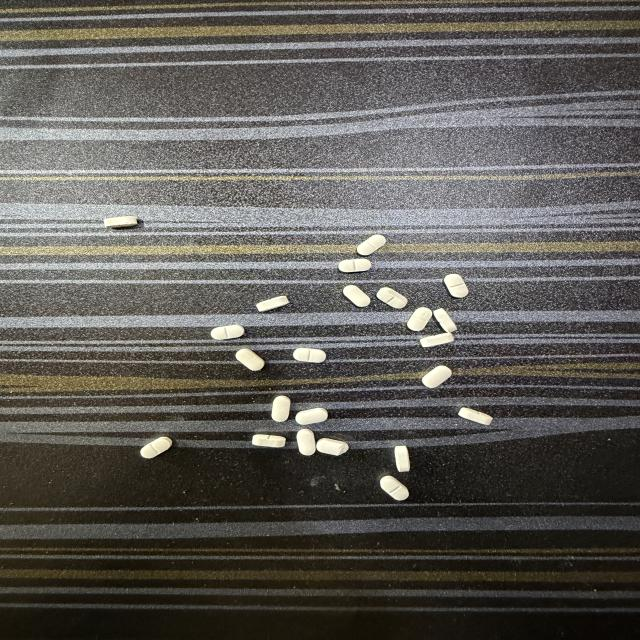pill: (380, 476, 409, 500), (422, 366, 452, 388), (141, 437, 172, 458), (377, 287, 407, 308), (407, 307, 432, 331), (343, 285, 370, 307), (236, 349, 264, 370), (357, 235, 386, 255), (458, 408, 492, 425), (444, 274, 468, 298), (256, 295, 289, 312), (316, 438, 348, 455), (434, 309, 456, 333), (296, 408, 328, 424), (293, 348, 326, 363), (297, 429, 316, 455), (211, 325, 244, 339), (420, 333, 453, 347), (272, 396, 290, 421), (338, 259, 371, 272), (252, 435, 285, 447), (104, 217, 138, 228), (395, 446, 409, 472)
